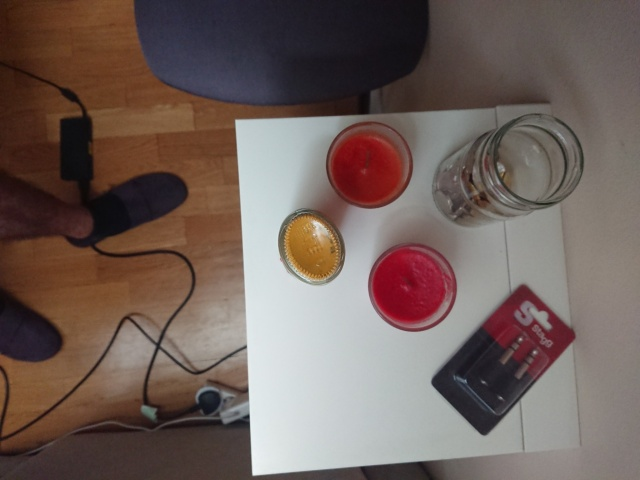Kotanyi Curry Spices Mix 70g: (275, 206, 348, 288)
